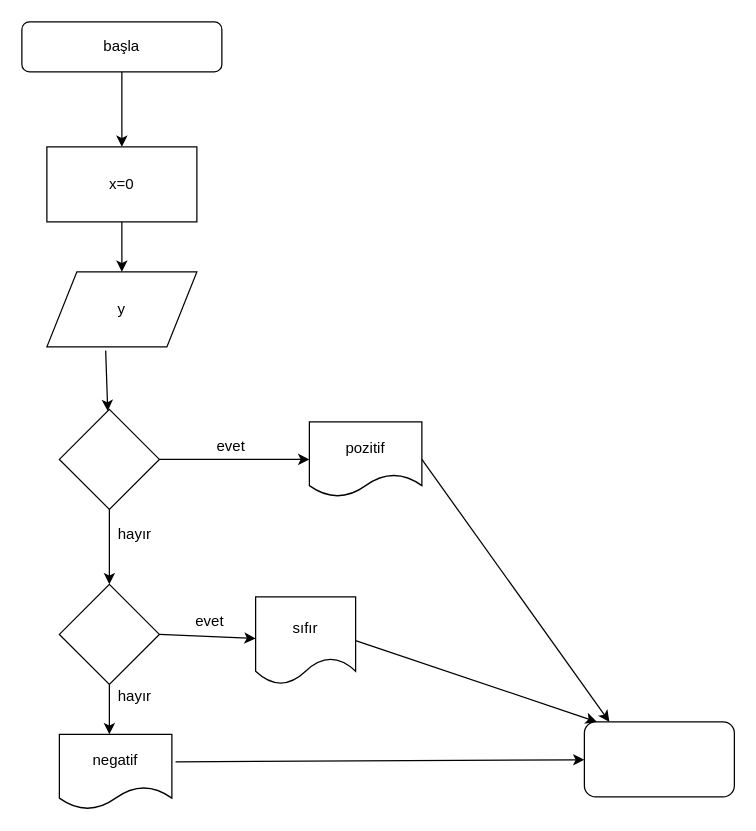
The diagram is 756 pixels wide and 831 high, and some of its shapes have lost their labels. The shapes that lost their labels are listed below. From the top down, each one's centre as x and y in pixels, then its label:
point 108,458: y>x
point 108,633: y=x
point 658,759: bitir
